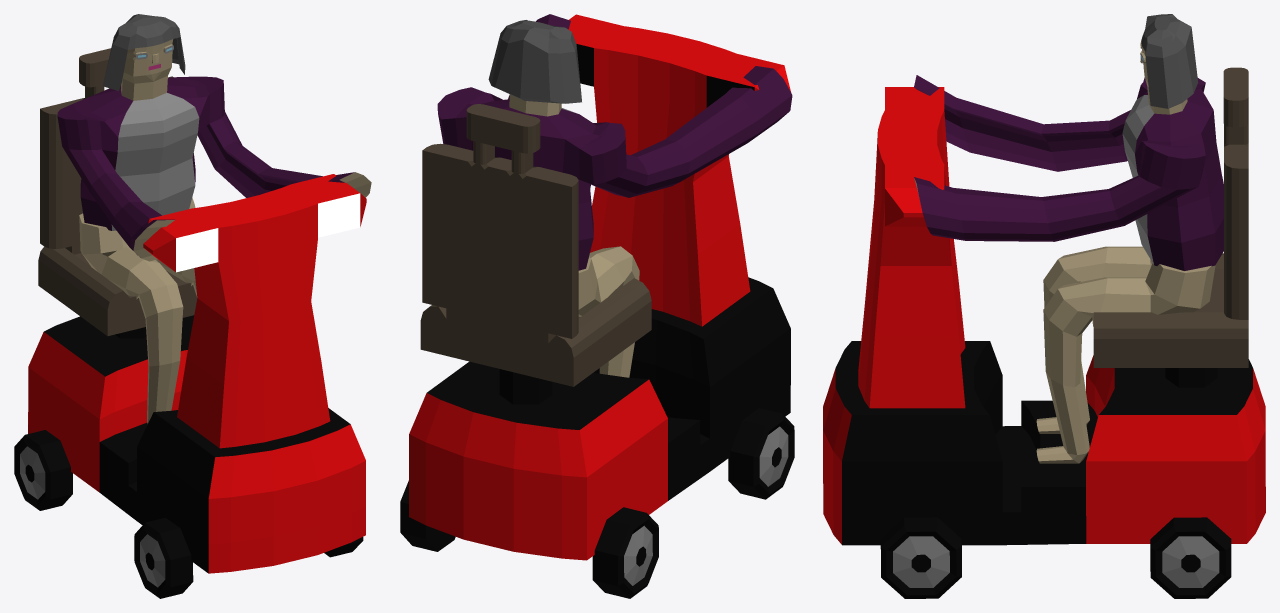
The model's file is Granny.glb.
3 renders of one model, left to right at view 1: azimuth 30°, elevation 25°; view 2: azimuth 150°, elevation 25°; view 3: azimuth 270°, elevation 25°, orthographic. The views are drawn at different scales.
Parts seen in each view (by area): view 1: granny.013; view 2: granny.013; view 3: granny.013.
Boxes of the visible parts, x1,y1,x2,y2 form: granny.013: [14, 14, 371, 598]; granny.013: [400, 14, 794, 598]; granny.013: [823, 14, 1265, 598].
Bounding box in the file's own units: 4.27 × 8.12 × 6.18.
